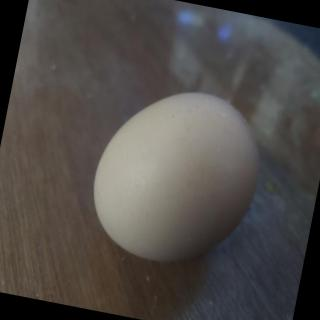Telur: (77, 71, 276, 284)
